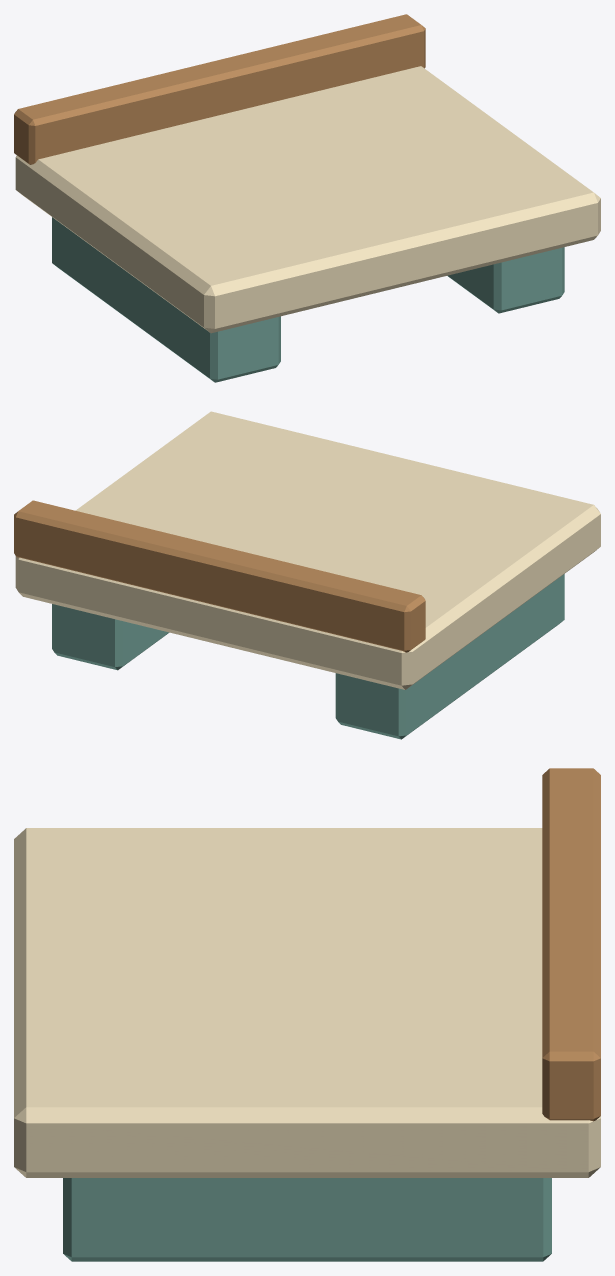
3 views of the same model, one above another, from view 1: azimuth 30°, elevation 25°; view 2: azimuth 150°, elevation 25°; view 3: azimuth 270°, elevation 25° (orthographic). The views are drawn at different scales.
Parts seen in each view (by area): view 1: transport-short-platform-01; view 2: transport-short-platform-01; view 3: transport-short-platform-01.
Boxes of the visible parts, x1,y1,x2,y2 form: transport-short-platform-01: (14,14,600,382); transport-short-platform-01: (14,411,600,739); transport-short-platform-01: (14,768,600,1261).
Size of the model in its own units: 1.4 by 0.51 by 1.2.
